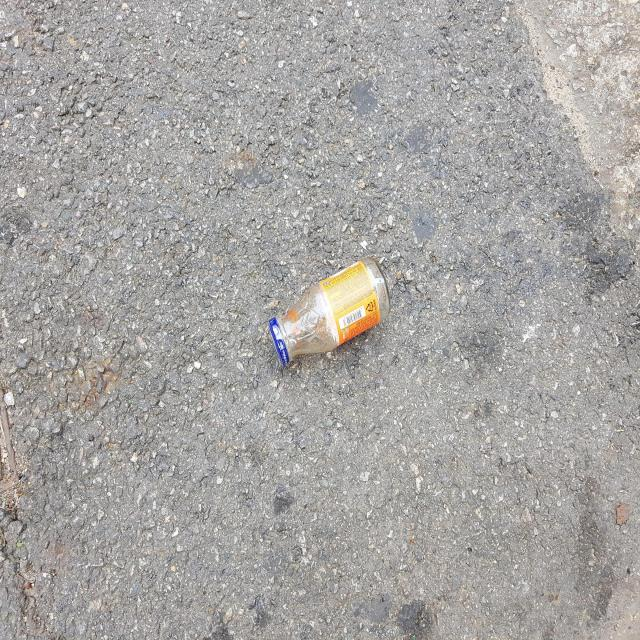glass: (269, 256, 391, 366)
